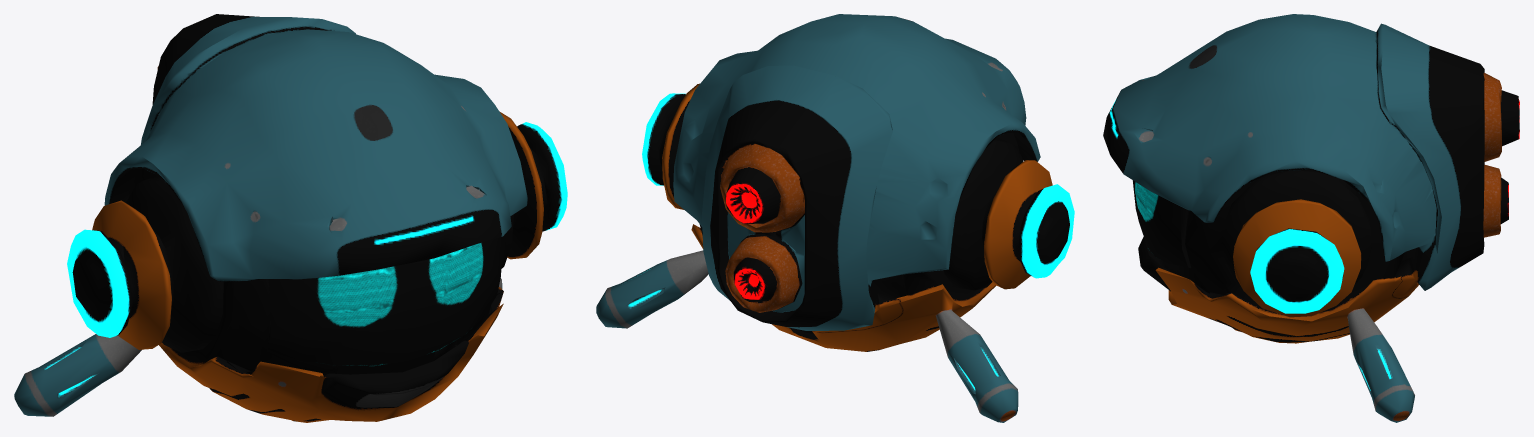
Rendered from animated.glb.
The picture shows the model from 3 angles, left to right: view 1: azimuth 30°, elevation 25°; view 2: azimuth 150°, elevation 25°; view 3: azimuth 270°, elevation 25°; orthographic projection. The views are drawn at different scales.
Parts seen in each view (by area): view 1: metashima; view 2: metashima; view 3: metashima.
Boxes of the visible parts, box(x1,y1,x2,y2) form: metashima: box(14, 14, 567, 422); metashima: box(596, 14, 1074, 422); metashima: box(1103, 14, 1519, 422).
Size of the model in its own units: 0.4667 by 0.3281 by 0.4139.
1 material, 1 textured.
